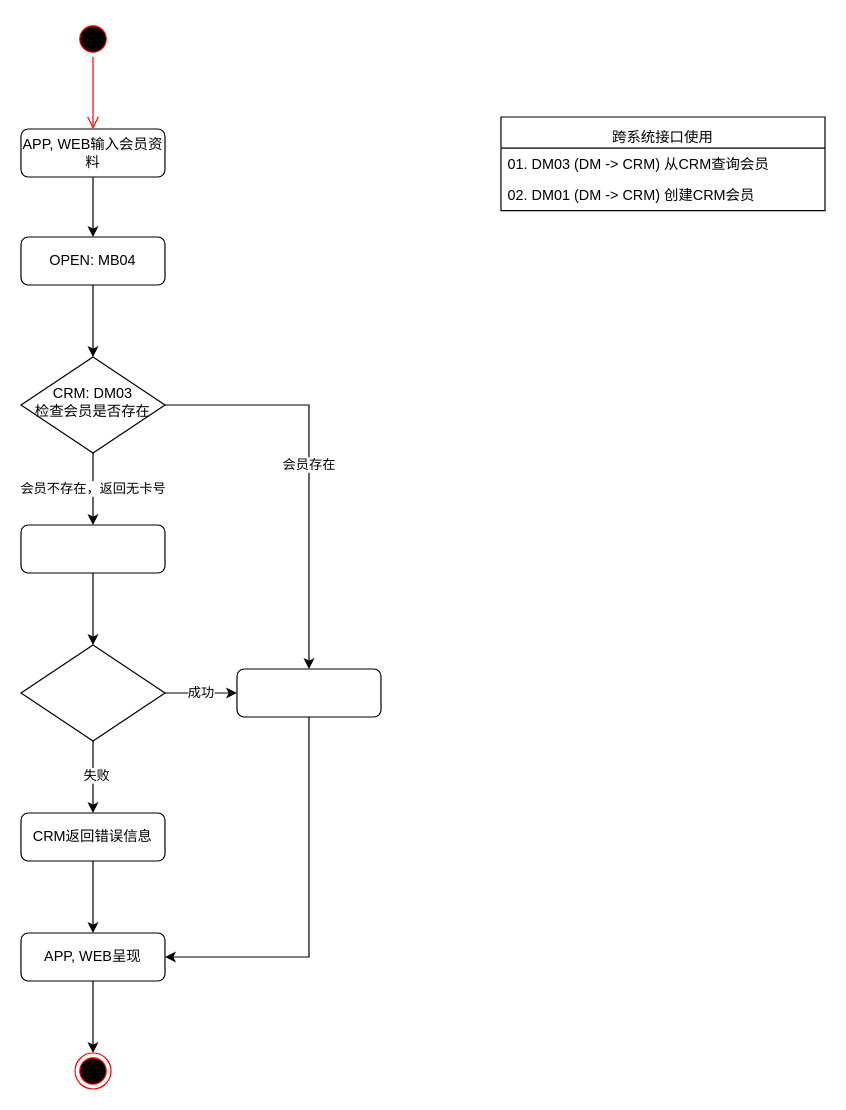
This 846x1110 diagram has some shape labels left out. Each missing label, with the box of its shape:
APP,WEB 缴费: (20, 524, 165, 573)
CRM: DM01 创建会员: (20, 644, 165, 741)
CRM返回会员信息: (236, 668, 381, 717)
